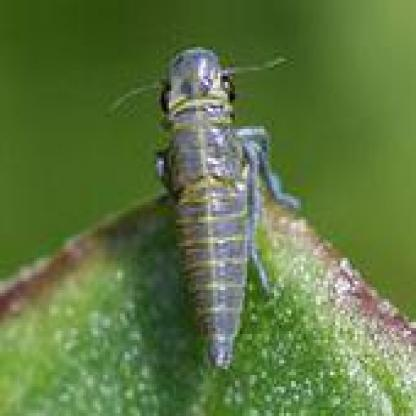Green-Leafhopper: (115, 46, 304, 370)
